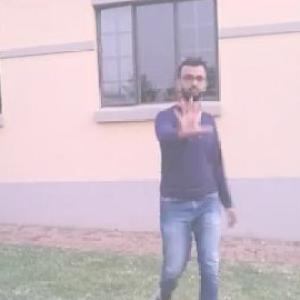follow_hand: (170, 89, 214, 140)
